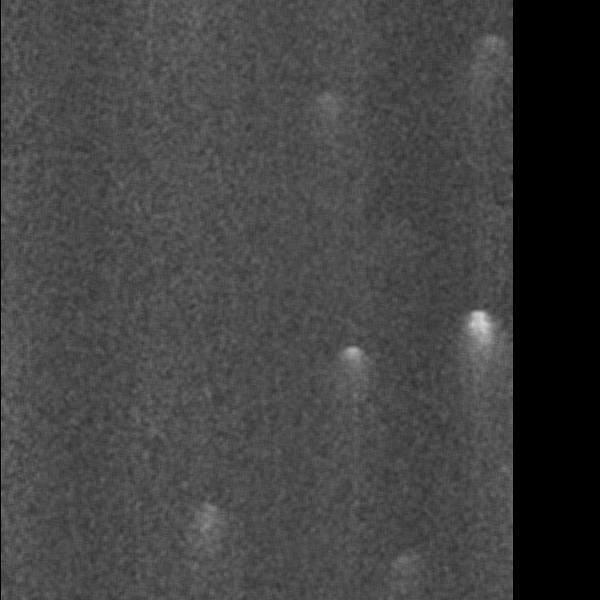spark: (100, 275, 166, 334)
